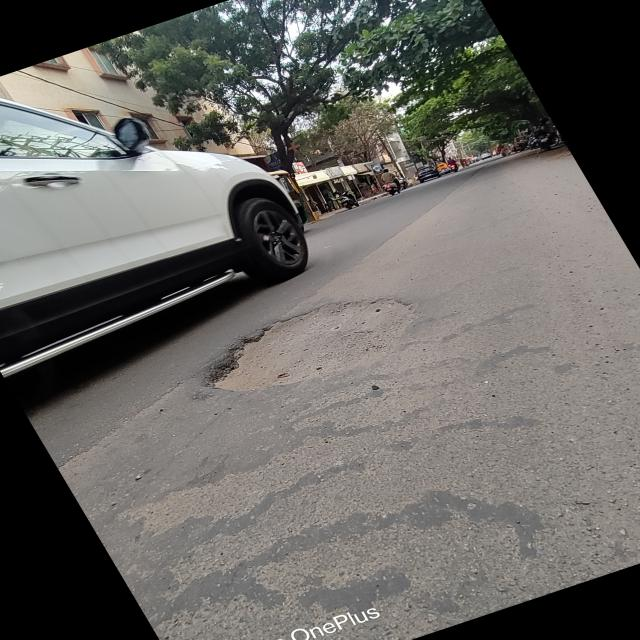potholes: (207, 297, 451, 397)
